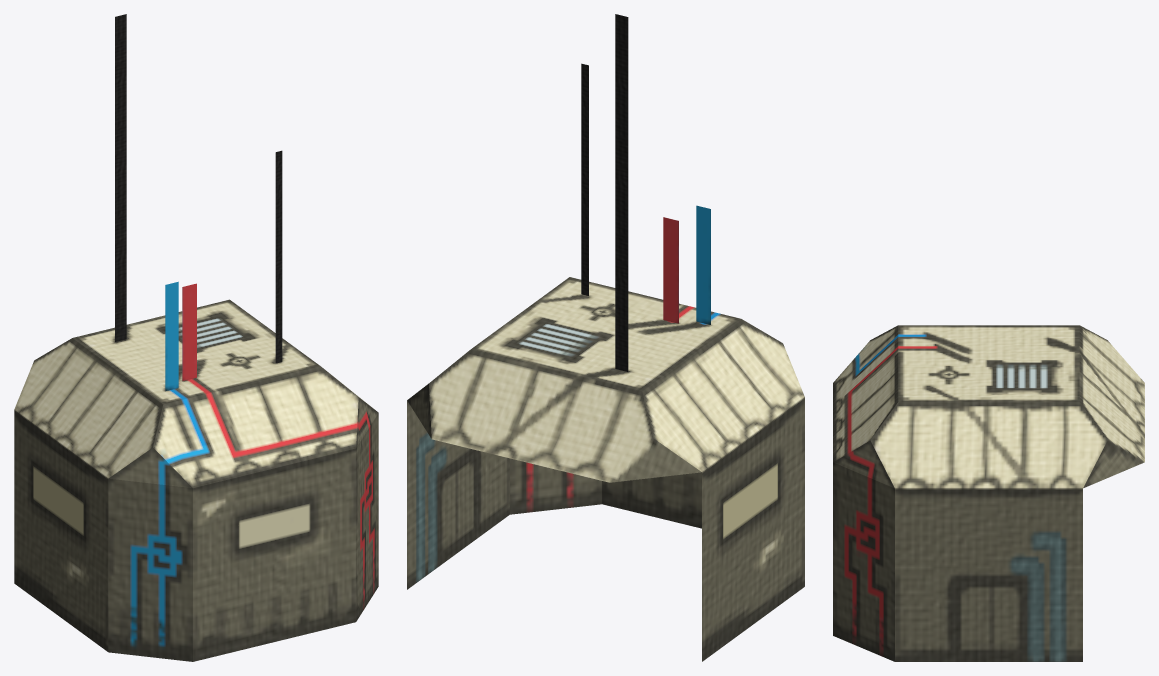
The picture shows the model from 3 angles, left to right: view 1: azimuth 30°, elevation 25°; view 2: azimuth 150°, elevation 25°; view 3: azimuth 270°, elevation 25°; orthographic projection. The views are drawn at different scales.
Visible parts, largest first — view 1: Цилиндр; view 2: Цилиндр; view 3: Цилиндр.
Part boxes in pixels (x1,y1,x2,y2): Цилиндр: [14, 14, 378, 661]; Цилиндр: [407, 14, 804, 661]; Цилиндр: [833, 325, 1144, 661].
Size of the model in its own units: 2 by 3.95 by 2.
Materials: 1 (1 with a texture image).
